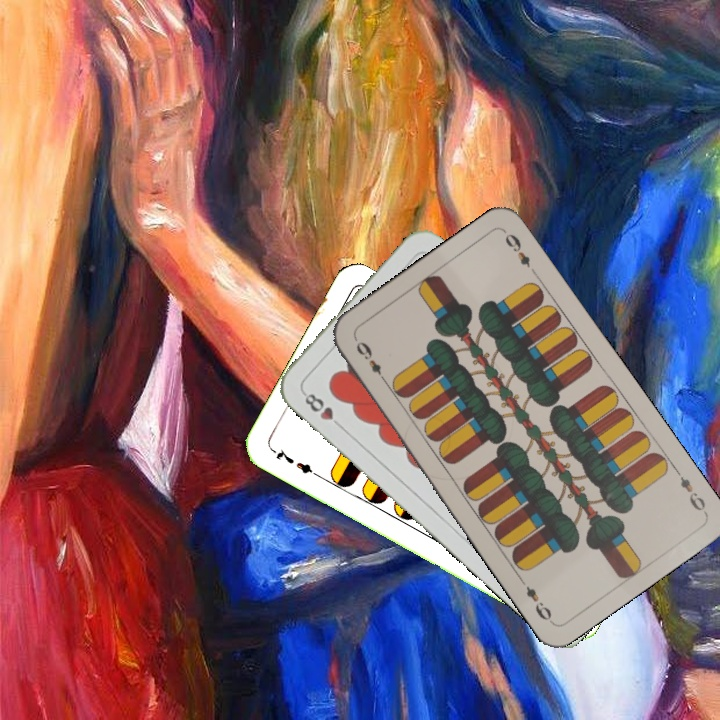E7: (267, 444, 321, 480)
E9: (670, 464, 709, 516), (351, 337, 390, 386)
H8: (299, 387, 347, 432)
